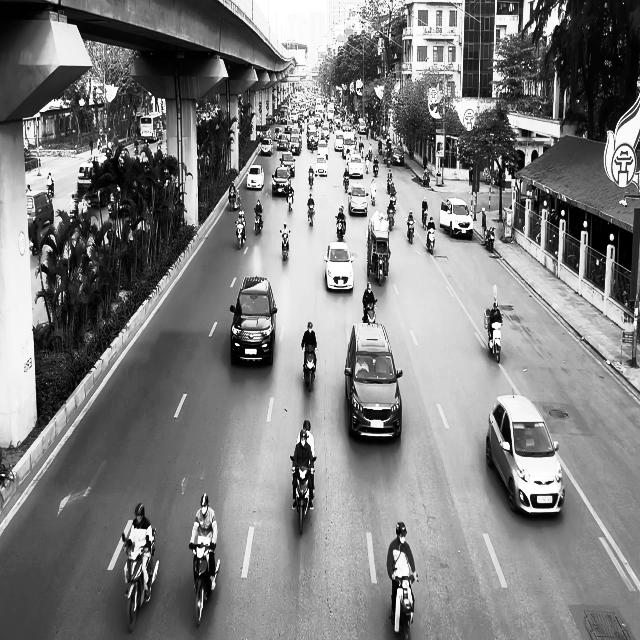bus: (136, 112, 162, 143)
car: (486, 392, 565, 516), (345, 321, 403, 440), (230, 275, 278, 366), (324, 241, 355, 292), (439, 197, 474, 239), (27, 189, 54, 234), (348, 182, 368, 215), (272, 167, 290, 196), (247, 165, 264, 189), (348, 154, 364, 177)
motorbike: (123, 526, 159, 633), (190, 541, 220, 626), (291, 455, 316, 535), (390, 569, 418, 639), (302, 344, 318, 391), (487, 320, 503, 363), (362, 299, 378, 324), (235, 221, 246, 250), (280, 229, 290, 260), (485, 226, 496, 252), (426, 227, 436, 254), (336, 215, 346, 241), (254, 210, 263, 235), (407, 219, 416, 244), (287, 188, 295, 212), (308, 204, 315, 227), (370, 186, 377, 206)
